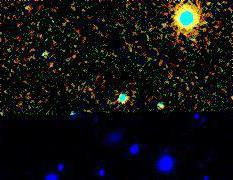star: (13, 0, 43, 22)
